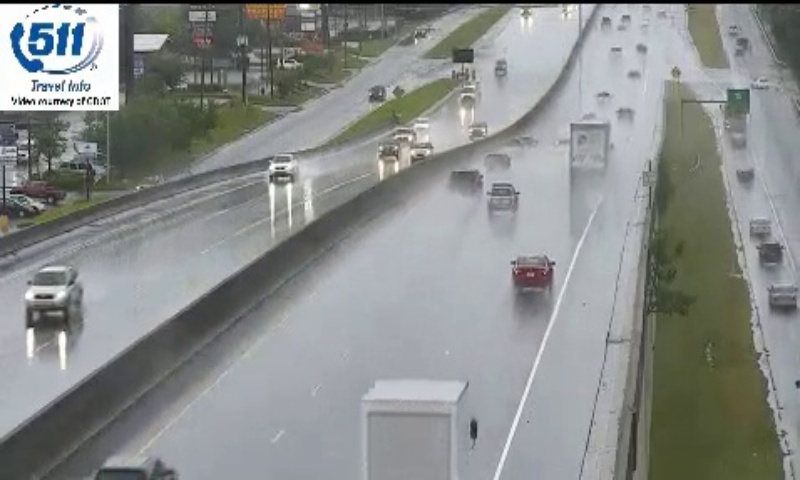car: (511, 255, 553, 289), (487, 184, 518, 211)
small-truck: (570, 121, 609, 177)
